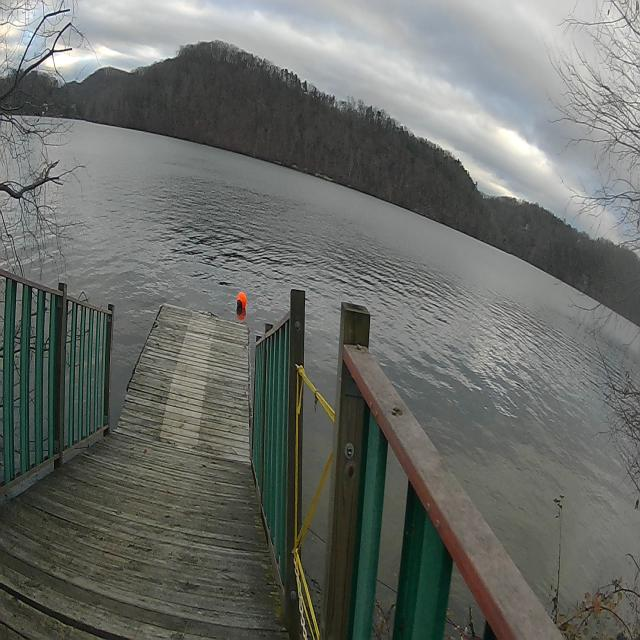Buoy: (236, 289, 248, 315)
